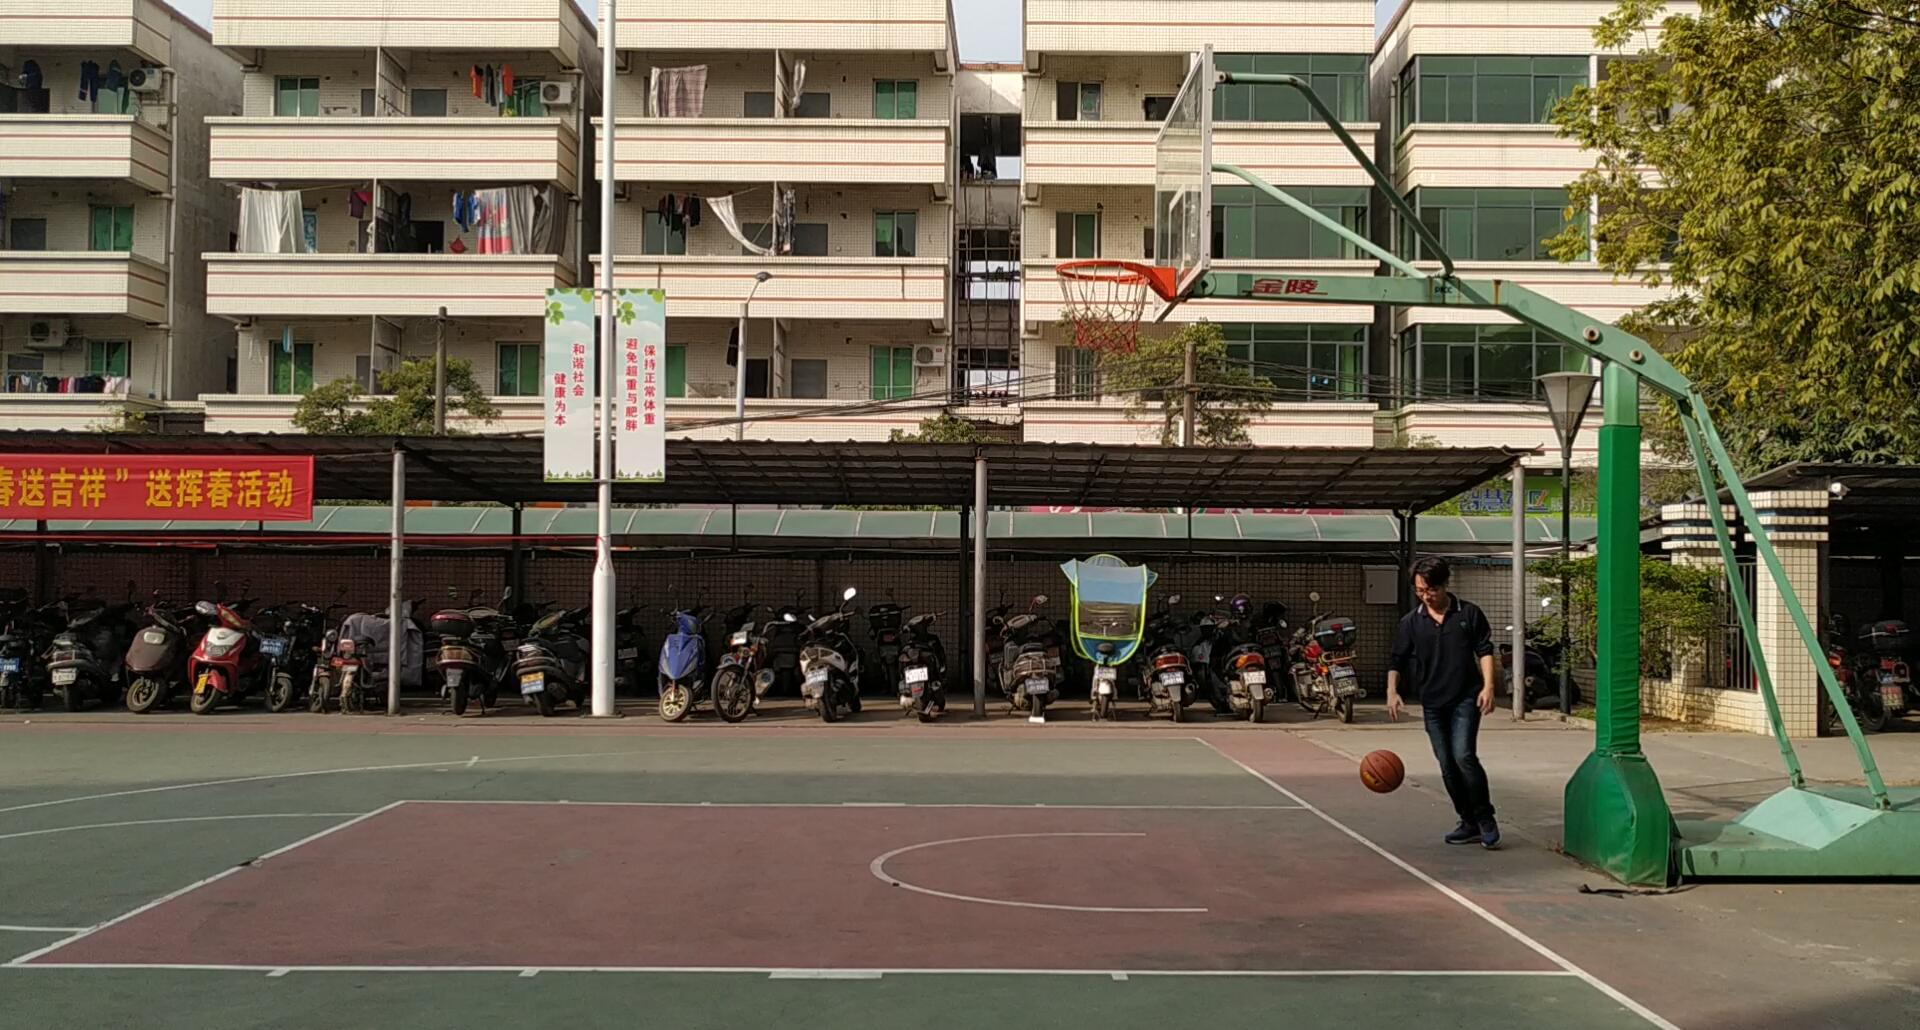basketball: (1356, 747, 1415, 798)
